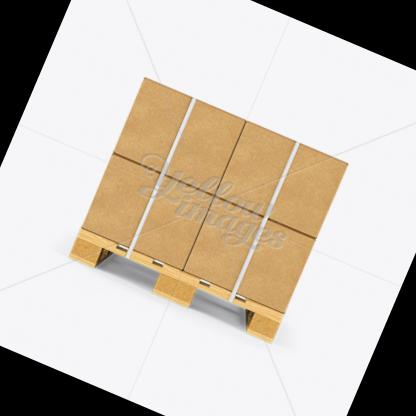BoxFace: (66, 223, 284, 345)
